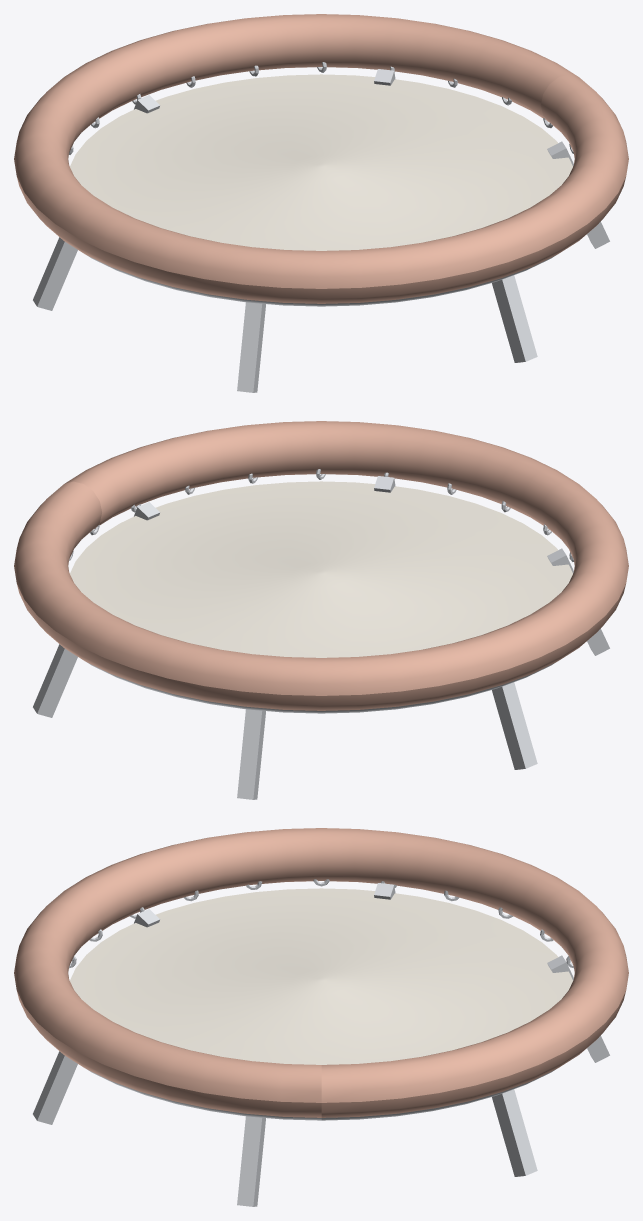
File: jelly-friends-playroom-trampoline-round-3a0fac51__27637.glb
3 renders of one model, top to bottom at view 1: azimuth 30°, elevation 25°; view 2: azimuth 150°, elevation 25°; view 3: azimuth 270°, elevation 25°, orthographic.
Visible parts, largest first — view 1: trampoline-round; view 2: trampoline-round; view 3: trampoline-round.
Part boxes in pixels (left/top/right/bottom): trampoline-round: left=14, top=14, right=628, bottom=392; trampoline-round: left=14, top=421, right=628, bottom=799; trampoline-round: left=14, top=828, right=628, bottom=1206.
Size of the model in its own units: 1.02 by 0.2593 by 1.02.
